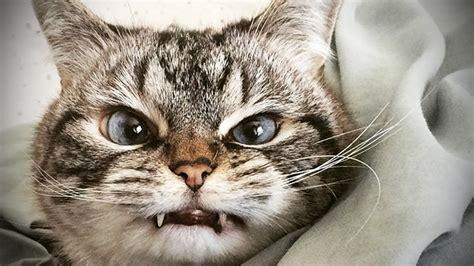cat: (30, 1, 360, 266)
